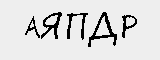Е: (118, 23, 143, 48)
И: (44, 19, 63, 36)
Л: (62, 23, 76, 40)
О: (89, 25, 115, 46)
С: (19, 18, 43, 34)
Ұ: (71, 24, 87, 43)
